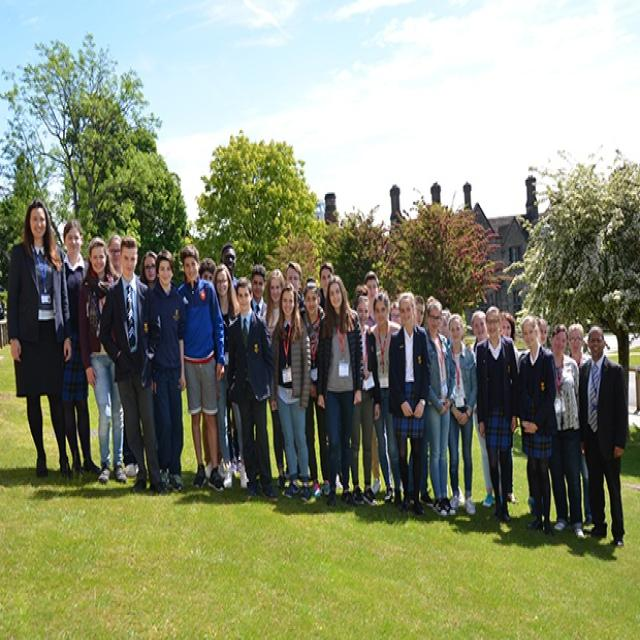body: (5, 198, 74, 480), (96, 232, 164, 496), (172, 241, 226, 496), (220, 272, 277, 502), (80, 236, 129, 487), (314, 272, 364, 509), (578, 324, 629, 549), (60, 219, 103, 482), (264, 282, 314, 508), (385, 290, 432, 520), (144, 248, 187, 494), (512, 310, 558, 537), (363, 288, 410, 508), (475, 305, 520, 526), (546, 321, 586, 541), (210, 261, 248, 490), (520, 316, 558, 521), (298, 274, 332, 502), (424, 294, 458, 520), (260, 267, 293, 493), (443, 311, 479, 518), (469, 308, 504, 509), (347, 284, 377, 506), (362, 269, 382, 498), (200, 394, 223, 487), (285, 260, 308, 321), (499, 310, 520, 374), (566, 321, 592, 369), (425, 296, 453, 340), (250, 263, 269, 318), (317, 260, 336, 311), (137, 249, 160, 291), (219, 242, 239, 290), (105, 232, 123, 277), (197, 256, 218, 284), (352, 283, 369, 307), (413, 296, 426, 327), (388, 299, 403, 325), (388, 300, 402, 324)
